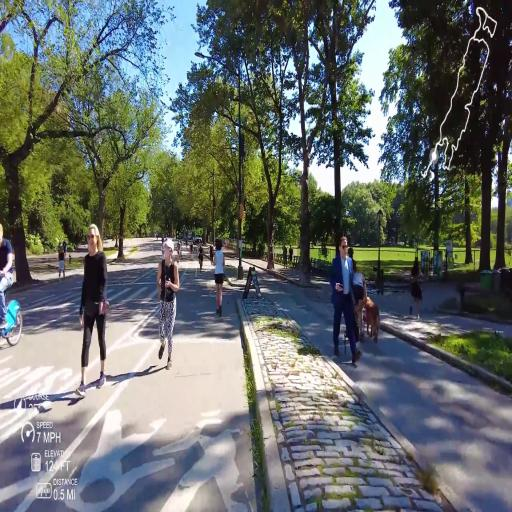Street_Light: (192, 46, 246, 280)
